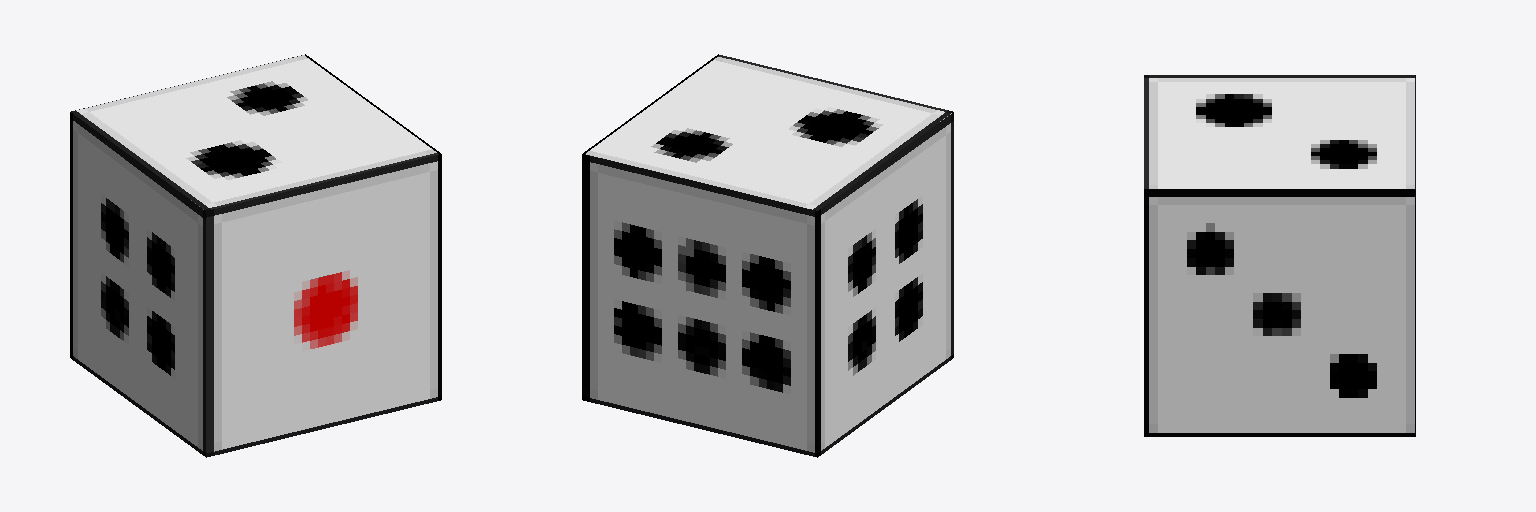
3 renders of one model, left to right at view 1: azimuth 30°, elevation 25°; view 2: azimuth 150°, elevation 25°; view 3: azimuth 270°, elevation 25°, orthographic.
Visible parts, largest first — view 1: Cube; view 2: Cube; view 3: Cube.
Part boxes in pixels (x1,y1,x2,y2): Cube: (70, 54, 441, 457); Cube: (582, 54, 953, 457); Cube: (1144, 75, 1415, 436).
Bounding box in the file's own units: 1 × 1 × 1.
1 materials, 1 textured.